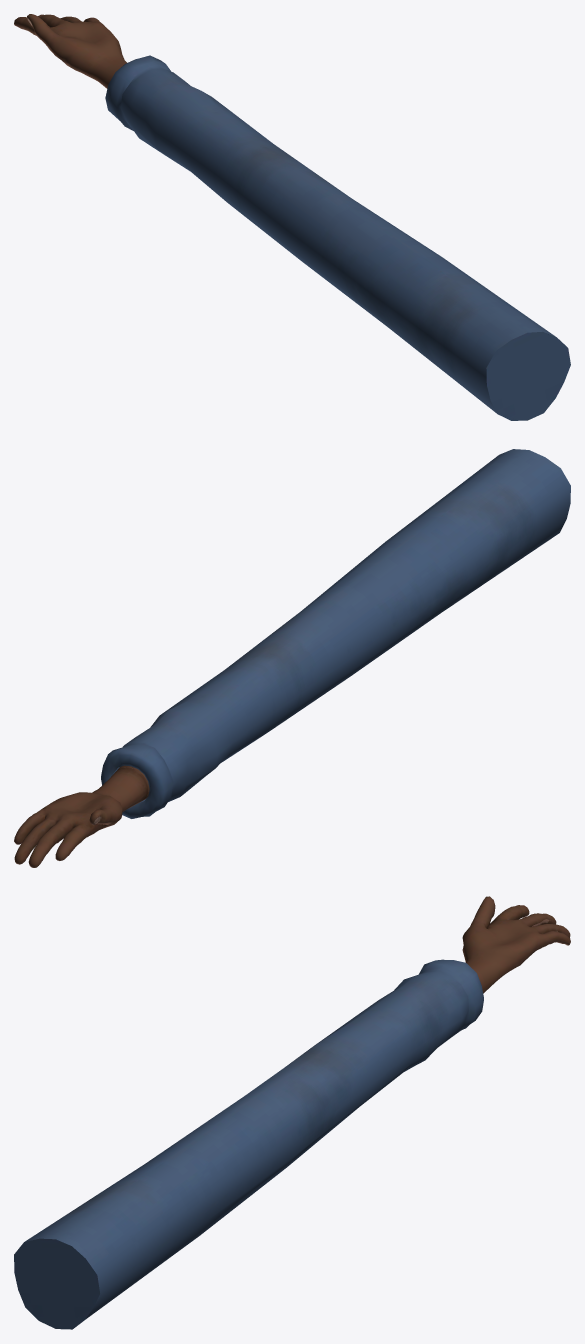
The model's file is hand.glb.
3 views of the same model, one above another, from view 1: azimuth 30°, elevation 25°; view 2: azimuth 150°, elevation 25°; view 3: azimuth 330°, elevation 25° (orthographic).
Parts seen in each view (by area): view 1: mechanic_hand; view 2: mechanic_hand; view 3: mechanic_hand.
Boxes of the visible parts, box(x1,y1,x2,y2) form: mechanic_hand: box(14, 14, 570, 420); mechanic_hand: box(14, 449, 570, 867); mechanic_hand: box(14, 896, 570, 1329).
Bounding box in the file's own units: 0.1403 × 0.1395 × 1.41.
1 material, 1 textured.
